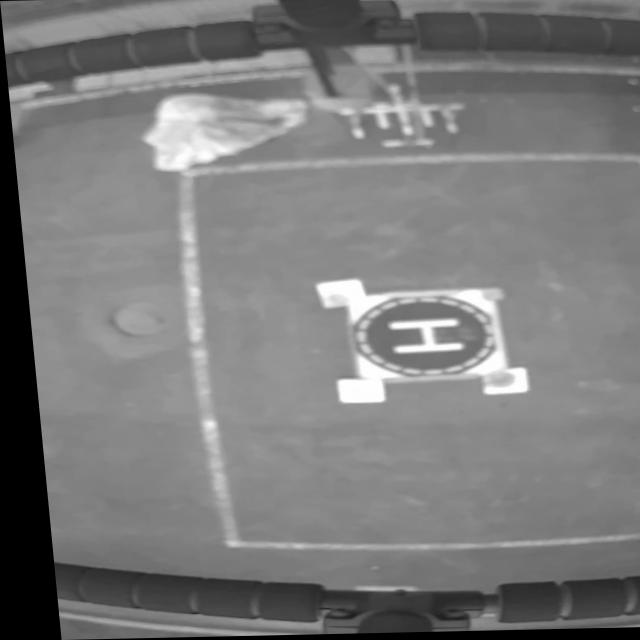Helipad: (382, 320, 458, 352)
